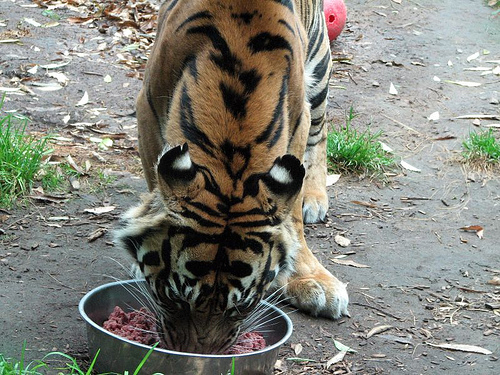Tigre: (115, 8, 365, 342)
